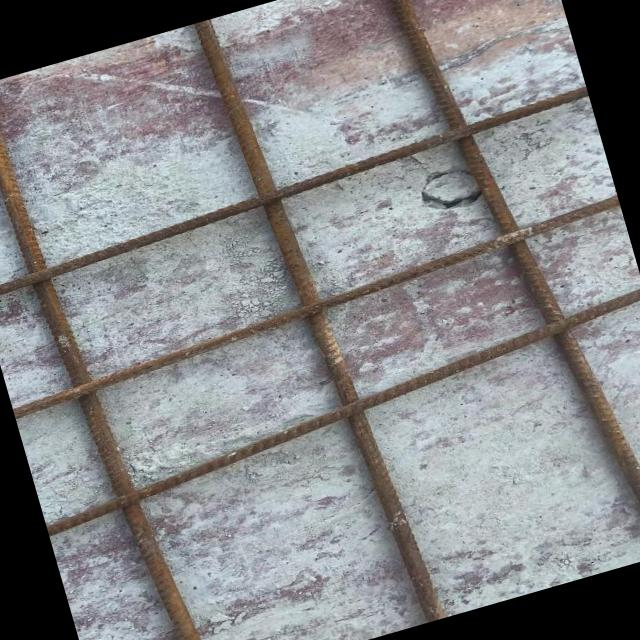ribbed bar: (190, 1, 446, 638), (372, 0, 640, 586), (27, 284, 640, 537), (1, 192, 630, 420), (0, 83, 596, 303), (0, 67, 218, 640)
